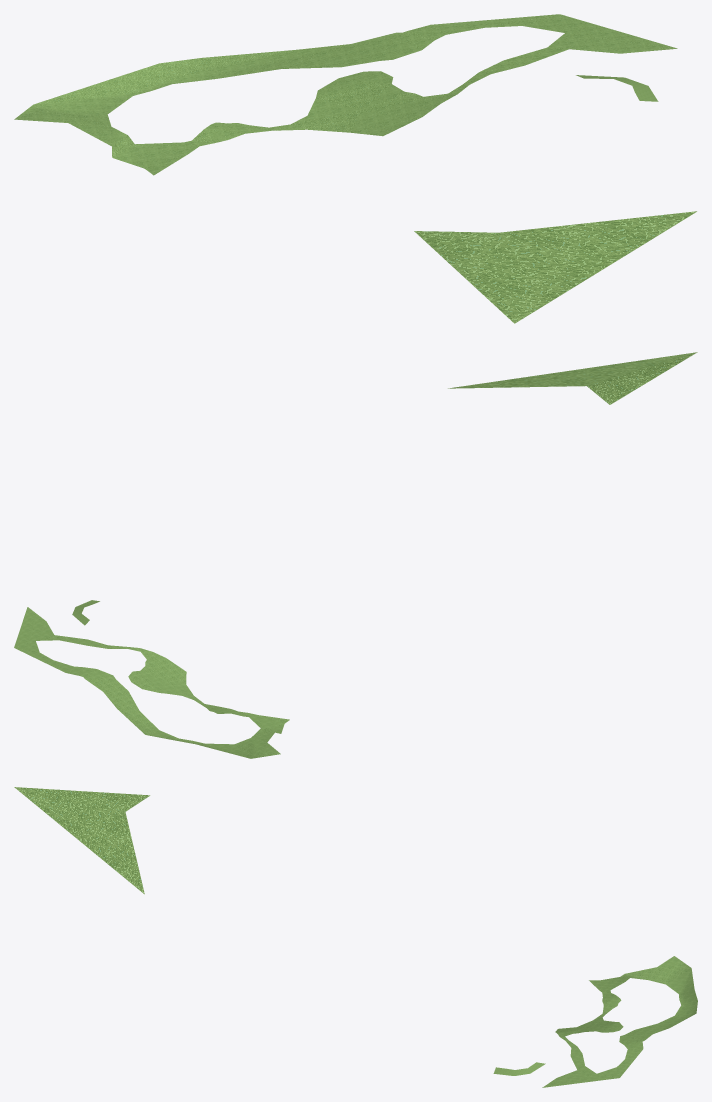
The model's file is kd_stage_135ebf_3_6.glb.
3 views of the same model, one above another, from view 1: azimuth 30°, elevation 25°; view 2: azimuth 150°, elevation 25°; view 3: azimuth 270°, elevation 25° (orthographic). The views are drawn at different scales.
Parts seen in each view (by area): view 1: kd_stage_135ebf_3_6; view 2: kd_stage_135ebf_3_6; view 3: kd_stage_135ebf_3_6.
Boxes of the visible parts, box(x1,y1,x2,y2) form: kd_stage_135ebf_3_6: box(14, 14, 696, 323); kd_stage_135ebf_3_6: box(14, 352, 697, 758); kd_stage_135ebf_3_6: box(14, 787, 697, 1087).
Size of the model in its own units: 135 by 54.82 by 226.
Materials: 1 (1 with a texture image).
